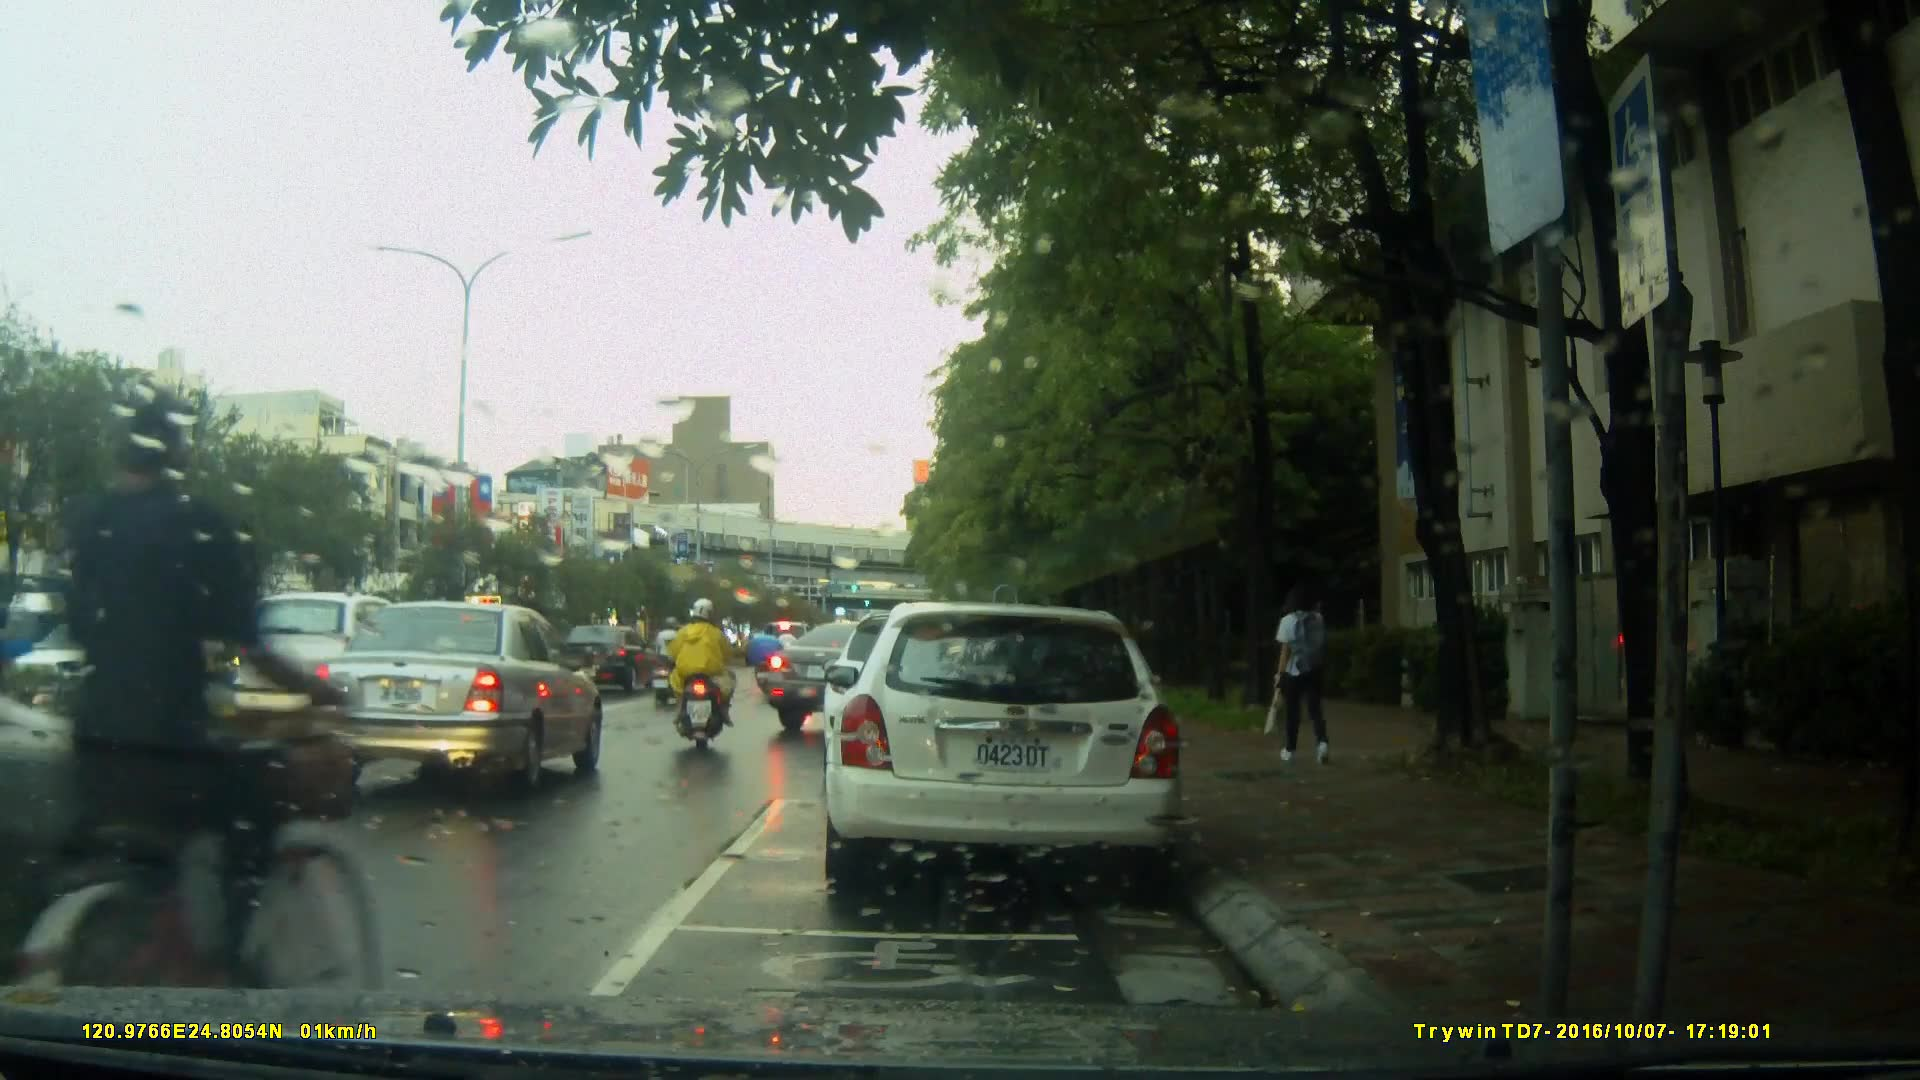pedestrian: (1273, 571, 1340, 770)
rider: (41, 378, 375, 1070), (669, 592, 734, 759), (639, 611, 681, 707), (758, 620, 784, 704)
vehicle: (1, 568, 270, 988), (820, 602, 1188, 898), (309, 599, 610, 791), (229, 591, 448, 738), (759, 620, 979, 735), (557, 624, 663, 695)
